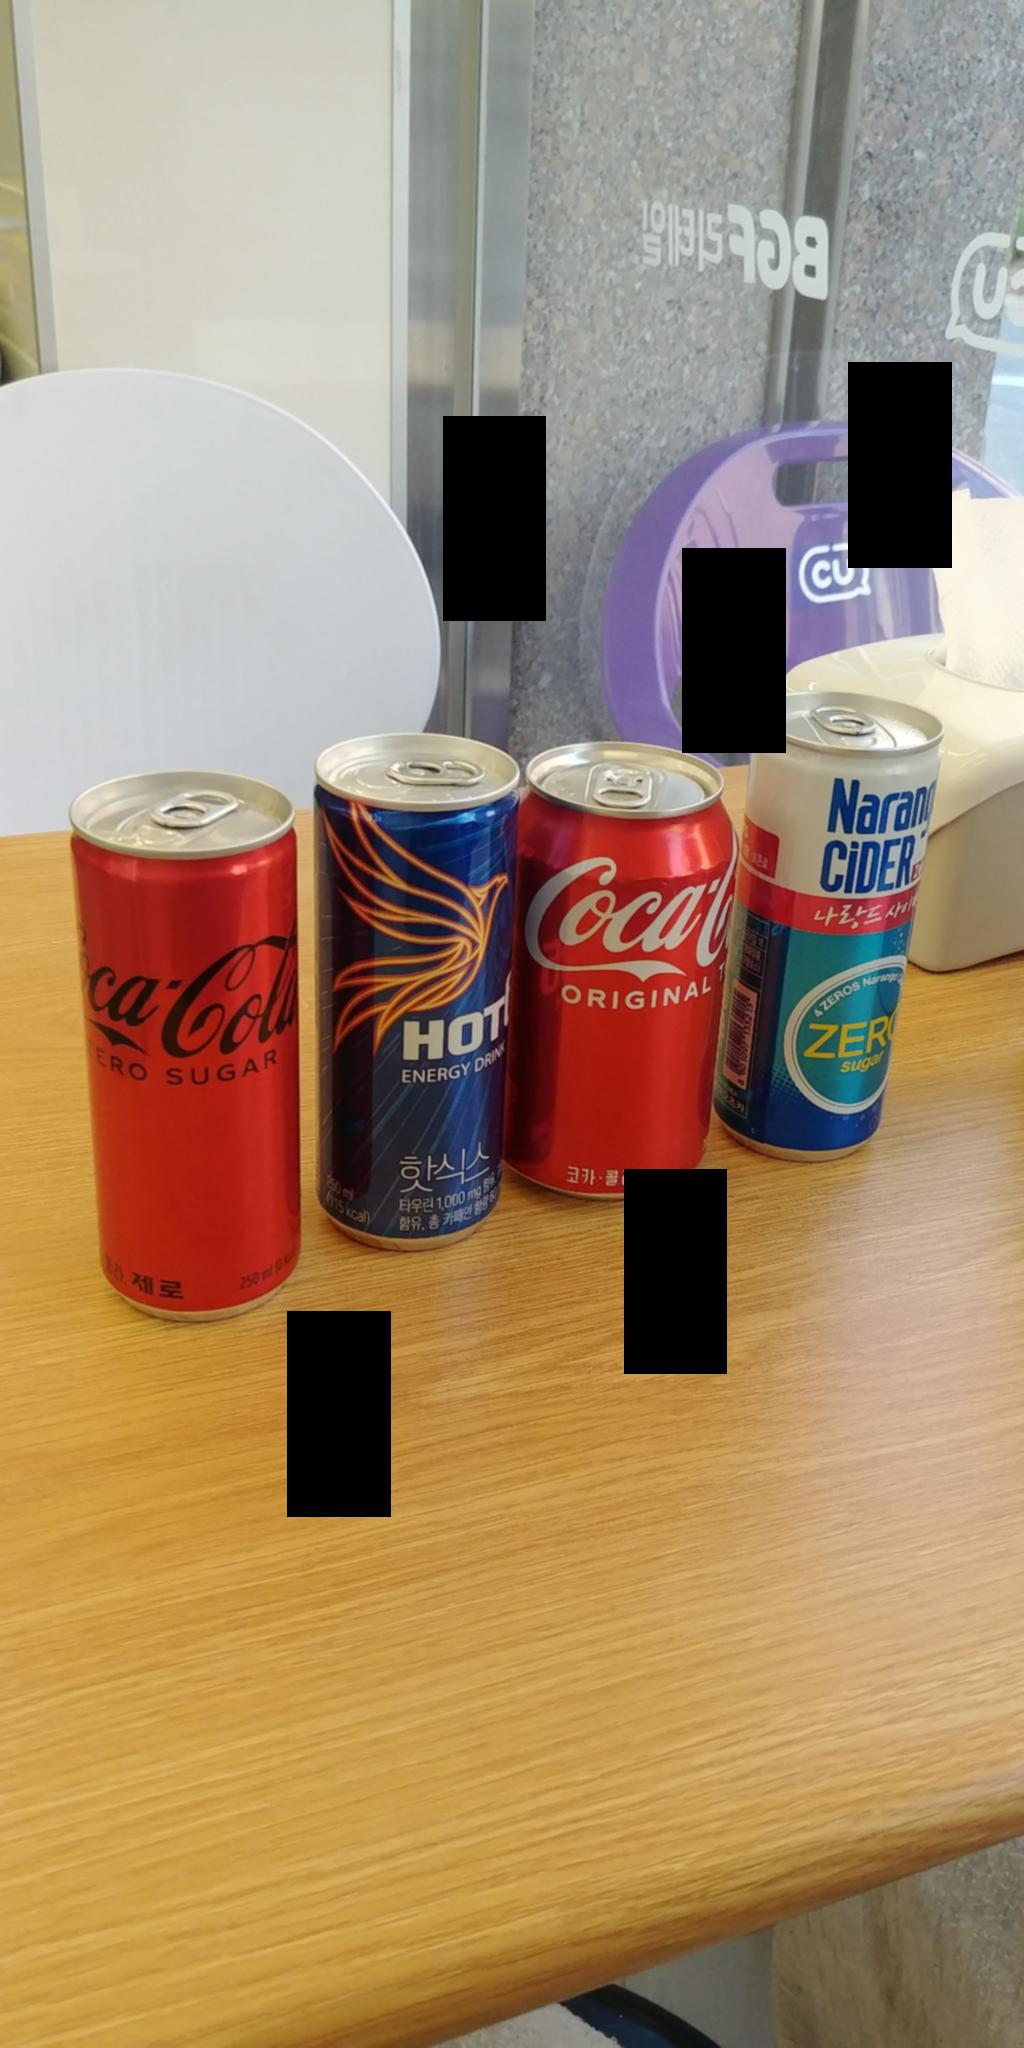cocacola: (524, 743, 708, 1229)
hotsix_org: (316, 713, 505, 1271)
narangdcider: (735, 690, 931, 1165)
